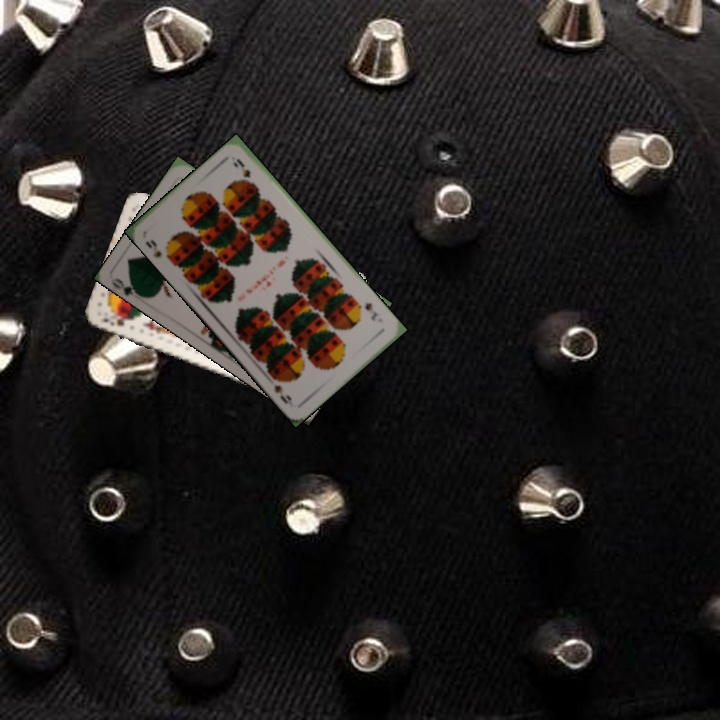GO: (110, 274, 148, 300)
S9: (141, 236, 174, 264), (361, 298, 380, 324)
SK: (98, 313, 127, 329)
